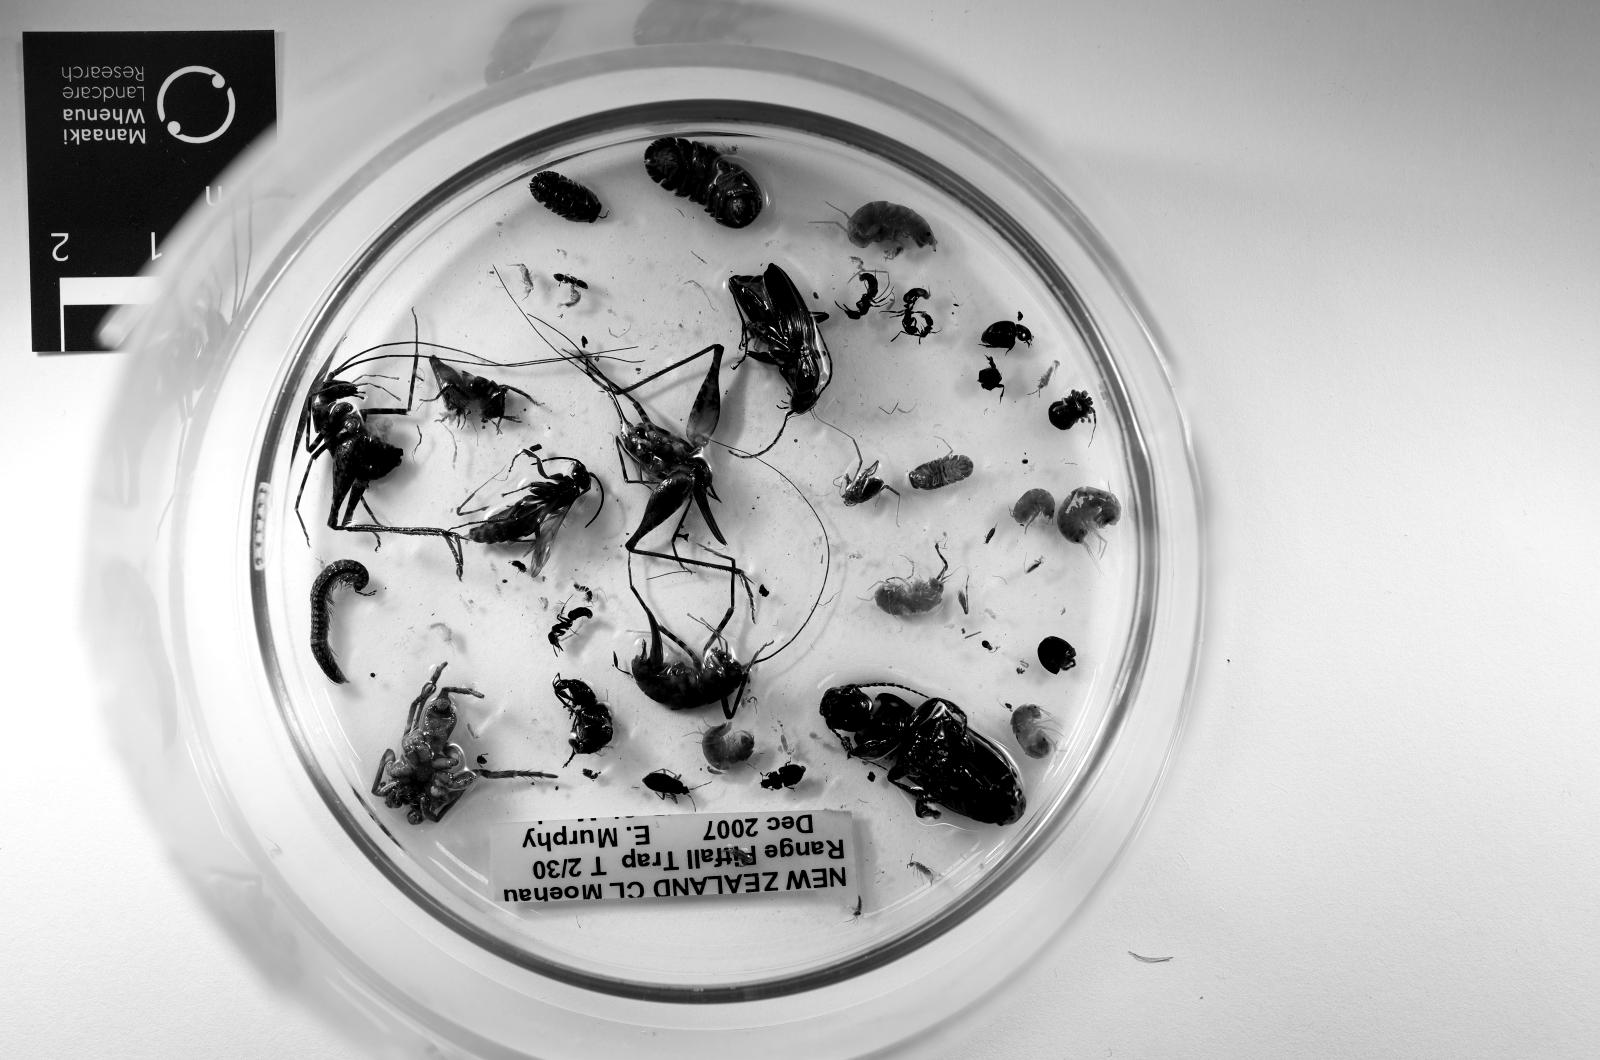amphipoda: (847, 202, 938, 258), (875, 556, 947, 615), (1056, 487, 1122, 543), (1010, 705, 1060, 757), (704, 724, 753, 770), (1012, 491, 1056, 531)
araneae: (371, 665, 556, 823)
carabidae: (818, 684, 1025, 826), (728, 264, 831, 413)
coleoptera: (553, 677, 613, 757), (982, 319, 1031, 351), (643, 770, 691, 799), (759, 764, 807, 789)
collembola: (1037, 360, 1060, 392), (512, 264, 535, 295), (909, 860, 934, 883), (563, 289, 582, 308)
diplopoda: (310, 558, 369, 684)
formicidae: (546, 606, 594, 652), (837, 273, 879, 319), (900, 289, 931, 336), (553, 273, 588, 289)
hymenoptera: (468, 451, 594, 577)
isopoda: (643, 137, 763, 230), (531, 170, 603, 224), (909, 457, 974, 491)
opiliones: (841, 453, 894, 506), (1047, 392, 1097, 428)
orthoptera: (306, 373, 462, 577), (578, 344, 725, 552), (631, 602, 763, 720), (428, 357, 522, 432)
